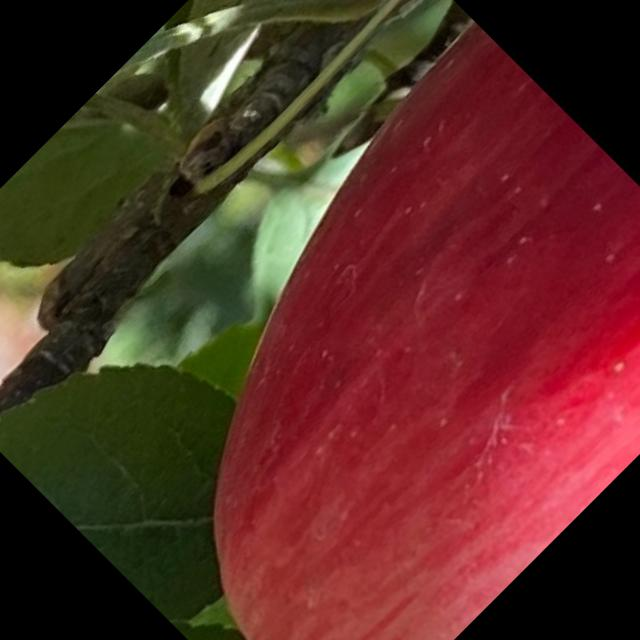Apples: (40, 21, 639, 639)
